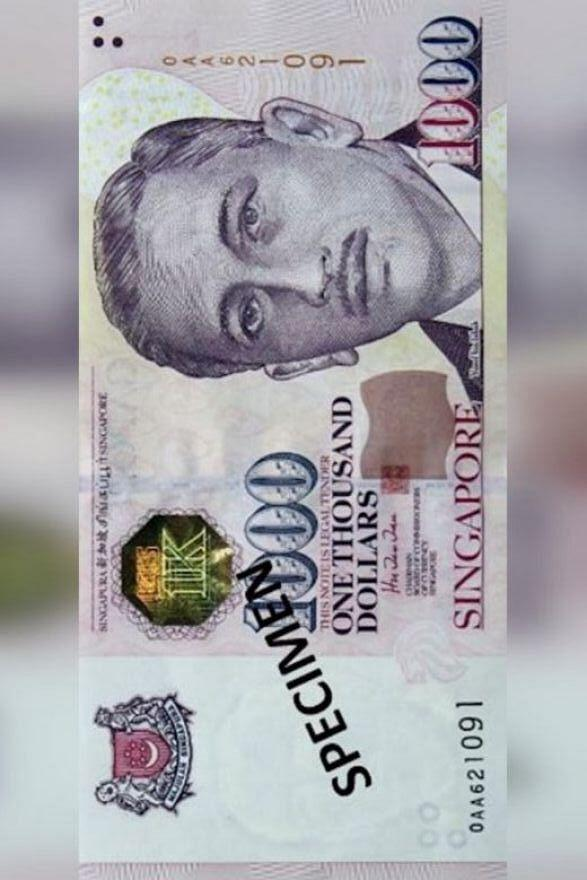1000SingaporeDollar: (80, 0, 508, 880)
